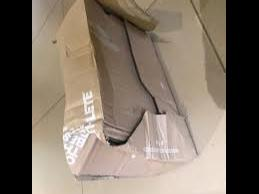damage_box: (50, 0, 197, 181)
